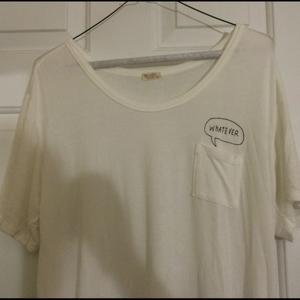C_T-shirt: (1, 23, 296, 299)
